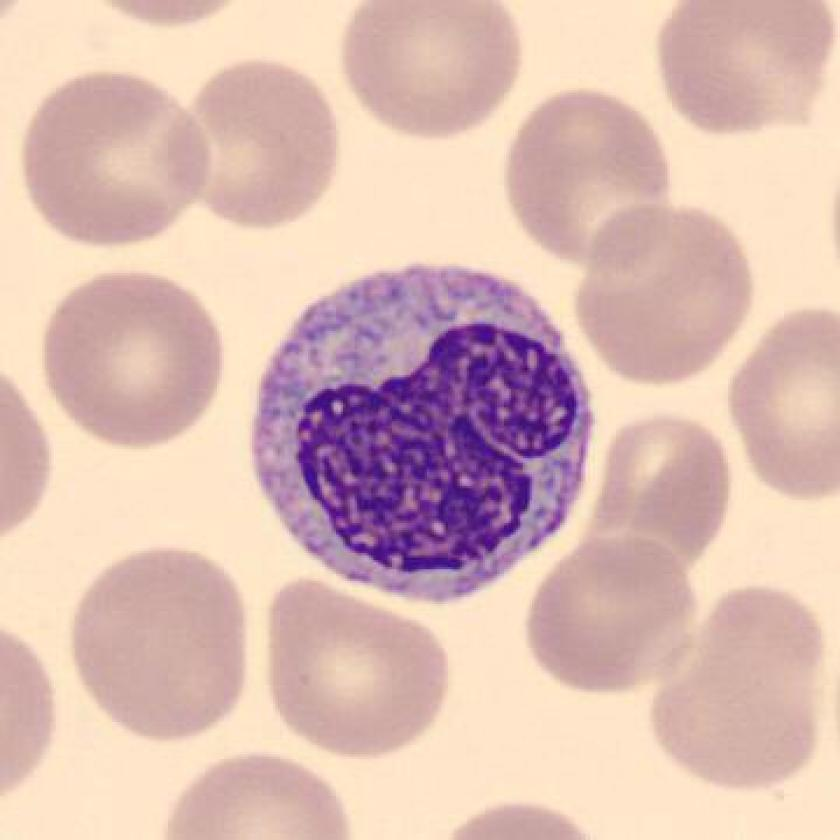monocyte: (232, 235, 619, 621)
